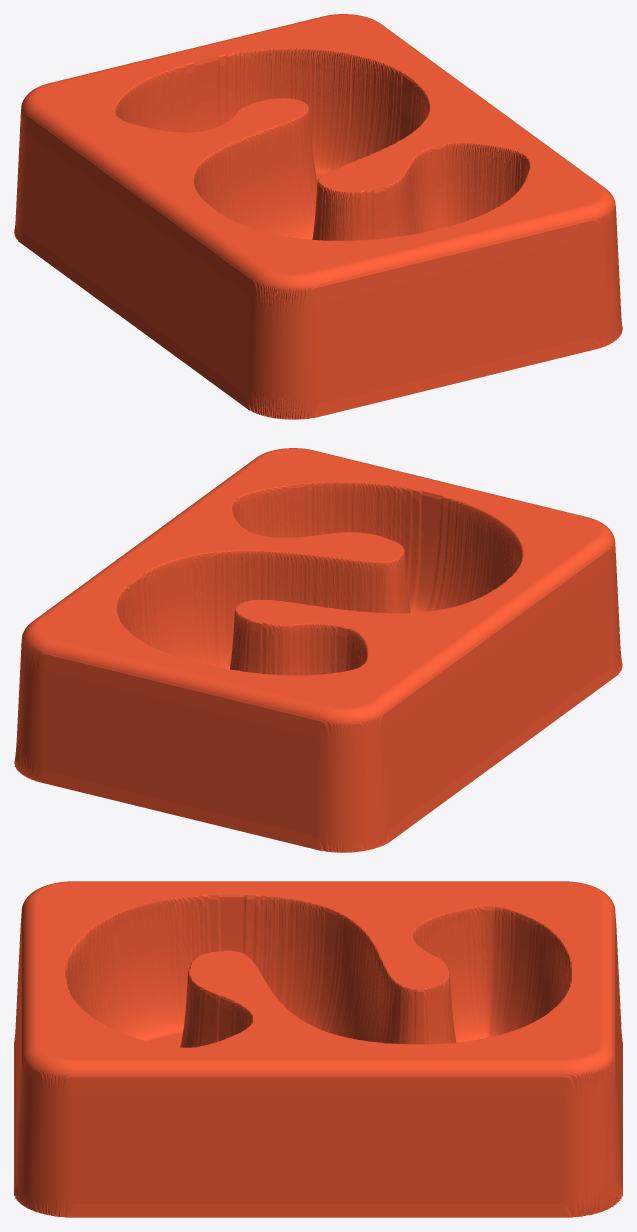
Rendered from mold.glb.
The picture shows the model from 3 angles, top to bottom: view 1: azimuth 30°, elevation 25°; view 2: azimuth 150°, elevation 25°; view 3: azimuth 270°, elevation 25°; orthographic projection. The views are drawn at different scales.
Parts seen in each view (by area): view 1: geometry_0; view 2: geometry_0; view 3: geometry_0.
Part boxes in pixels (x1,y1,x2,y2): geometry_0: [14, 14, 622, 419]; geometry_0: [14, 448, 622, 852]; geometry_0: [14, 881, 622, 1217].
Size of the model in its own units: 0.0706 by 0.0248 by 0.0924.
